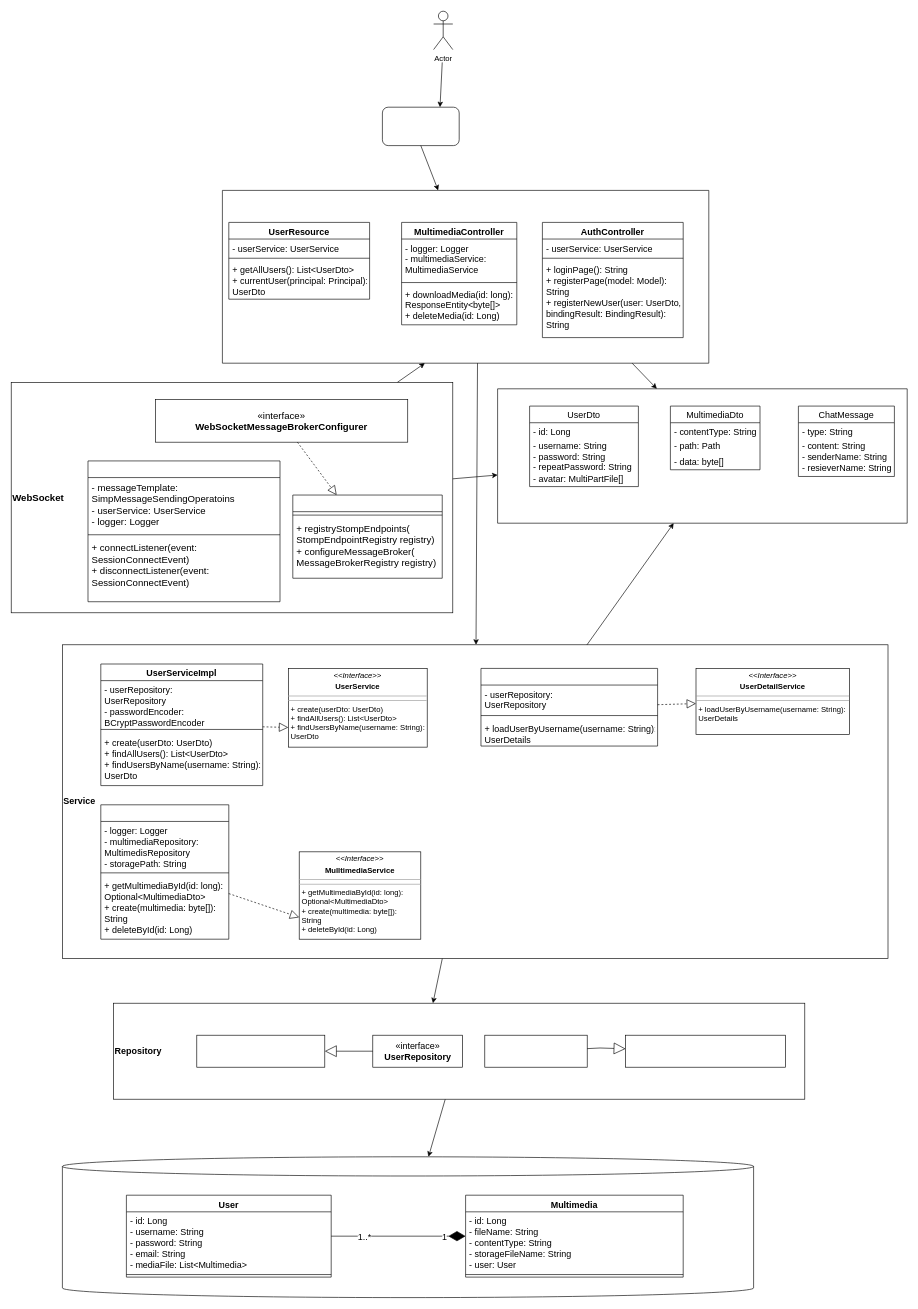
The diagram is 918 pixels wide and 1309 high, and some of its shapes have lost their labels. The shapes that lost their labels are listed below. From the top down, each one's box as (x1, y1, x2, y2) in pixels, then its label:
(382, 107, 459, 146): API
(87, 460, 280, 602): WebSocketEventListener
(292, 494, 442, 578): WebSocketConfig
(480, 668, 658, 746): AuthService
(100, 804, 229, 939): MulltimediaServiceImpl
(196, 1035, 325, 1067): «interface» J pa Re pository<User, Long>
(484, 1035, 587, 1067): «interface» Multimedia Re pository
(625, 1035, 786, 1067): «interface» J pa Re pository<Multimedia, Long>
(62, 1156, 754, 1298): Database
